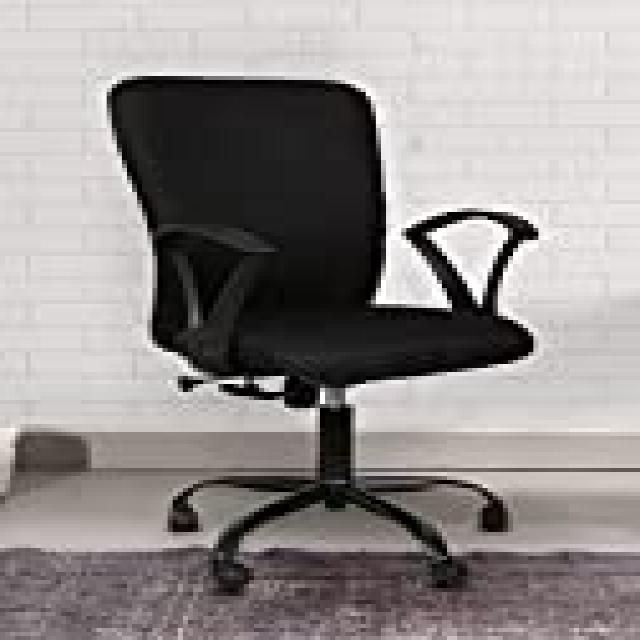chair: (107, 72, 540, 600)
